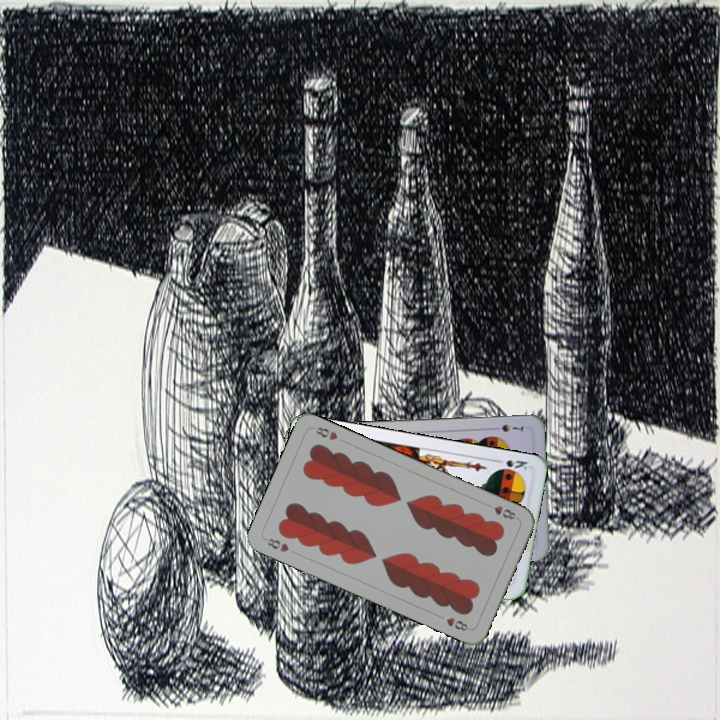H8: (482, 500, 518, 522), (261, 534, 291, 555)
S7: (488, 420, 526, 435)
SK: (491, 455, 531, 475)
